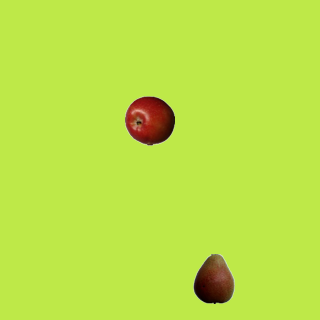Apple Braeburn: (124, 95, 174, 145)
Pear Forelle: (188, 253, 238, 303)
